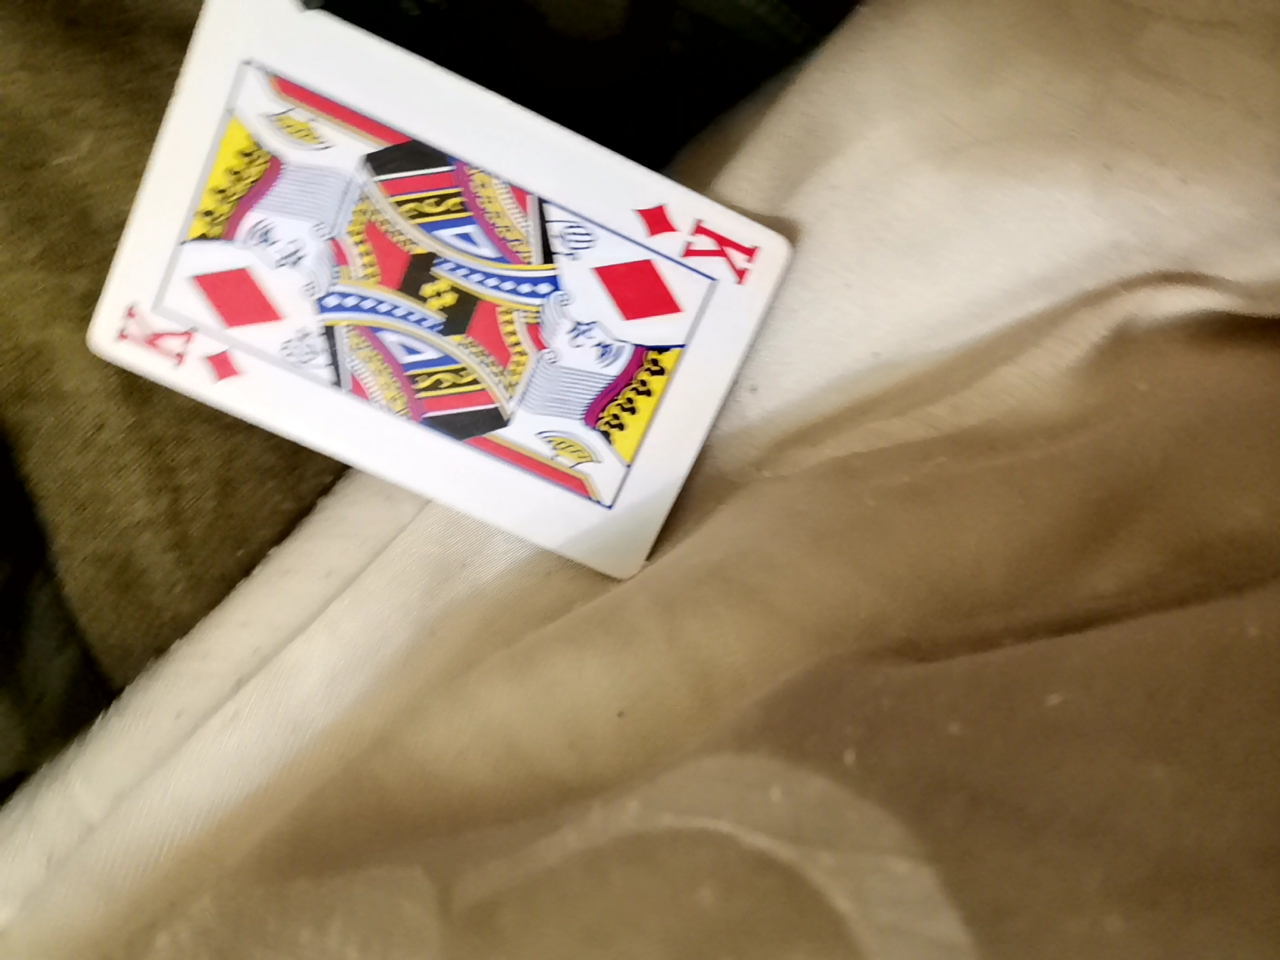fk k: (177, 5, 848, 498)
